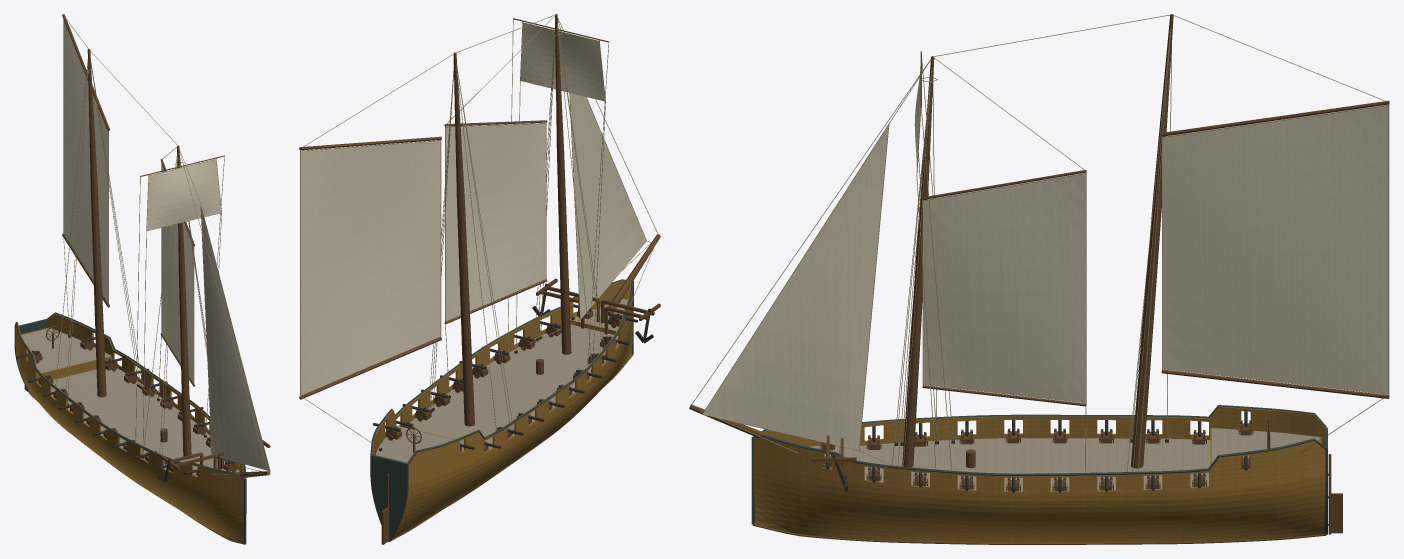
The model's file is ship.glb.
3 views of the same model, side by side, from view 1: azimuth 30°, elevation 25°; view 2: azimuth 150°, elevation 25°; view 3: azimuth 270°, elevation 25° (orthographic). The views are drawn at different scales.
Visible parts, largest first — view 1: hull_shell_starboard, main_gaff_00, jib_00, main_deck, fore_square_00, fore_gaff_01, main, castle_deck_0, hull_shell_port, fore, gunwale_starboard, castle_bulkhead_0_1 (+10 smaller); view 2: main_gaff_00, fore_gaff_01, hull_shell_starboard, jib_00, main_deck, fore_square_00, main, hull_shell_port, fore, stern_closure, castle_deck_0, gunwale_starboard (+5 smaller); view 3: main_gaff_00, hull_shell_port, fore_gaff_01, jib_00, main_deck, hull_shell_starboard, main, fore, castle_deck_0, gunwale_port, keel, gunwale_starboard (+2 smaller).
Boxes of the visible parts, bbox=[...] form: hull_shell_starboard: bbox=[15, 322, 244, 542]; main_gaff_00: bbox=[63, 20, 108, 303]; jib_00: bbox=[201, 206, 269, 470]; main_deck: bbox=[40, 368, 224, 474]; fore_square_00: bbox=[146, 159, 221, 230]; fore_gaff_01: bbox=[161, 163, 193, 382]; main: bbox=[87, 49, 106, 397]; castle_deck_0: bbox=[21, 328, 111, 373]; hull_shell_port: bbox=[46, 313, 245, 478]; fore: bbox=[177, 145, 191, 458]; gunwale_starboard: bbox=[14, 322, 244, 478]; castle_bulkhead_0_1: bbox=[37, 356, 112, 382]; main_gaff_00: bbox=[300, 141, 440, 395]; fore_gaff_01: bbox=[445, 123, 546, 320]; hull_shell_starboard: bbox=[392, 282, 632, 538]; jib_00: bbox=[570, 93, 646, 318]; main_deck: bbox=[410, 324, 618, 450]; fore_square_00: bbox=[520, 23, 604, 100]; main: bbox=[453, 52, 474, 426]; hull_shell_port: bbox=[372, 280, 630, 455]; fore: bbox=[555, 14, 571, 354]; stern_closure: bbox=[370, 454, 408, 541]; castle_deck_0: bbox=[376, 425, 463, 462]; gunwale_starboard: bbox=[407, 281, 633, 464]; main_gaff_00: bbox=[1162, 105, 1388, 394]; hull_shell_port: bbox=[754, 437, 1325, 543]; fore_gaff_01: bbox=[923, 173, 1085, 402]; jib_00: bbox=[703, 125, 888, 449]; main_deck: bbox=[840, 438, 1210, 491]; hull_shell_starboard: bbox=[753, 406, 1326, 447]; main: bbox=[1131, 14, 1173, 468]; fore: bbox=[902, 56, 934, 467]; castle_deck_0: bbox=[1211, 428, 1319, 463]; gunwale_port: bbox=[753, 435, 1326, 475]; keel: bbox=[752, 524, 1326, 544]; gunwale_starboard: bbox=[753, 405, 1326, 436].
Bounding box in the file's own units: 9.17 × 31.16 × 37.29.
7 materials, 7 textured.
